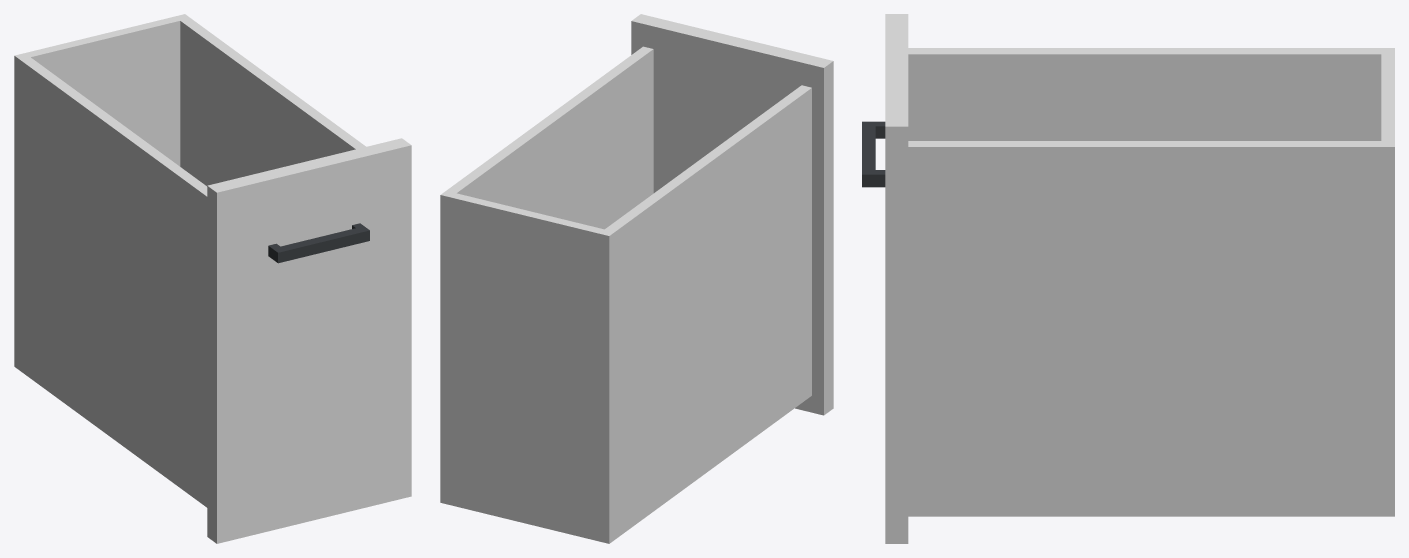
File: Door1_C1_08.fbx
3 views of the same model, side by side, from view 1: azimuth 30°, elevation 25°; view 2: azimuth 150°, elevation 25°; view 3: azimuth 270°, elevation 25° (orthographic). The views are drawn at different scales.
Visible parts, largest first — view 1: Door1_C1_08; view 2: Door1_C1_08; view 3: Door1_C1_08.
Part boxes in pixels (bbox=[...]): Door1_C1_08: bbox=[14, 14, 411, 543]; Door1_C1_08: bbox=[440, 14, 833, 543]; Door1_C1_08: bbox=[862, 14, 1394, 543].
Bounding box in the file's own units: 29 × 50 × 57.89.
